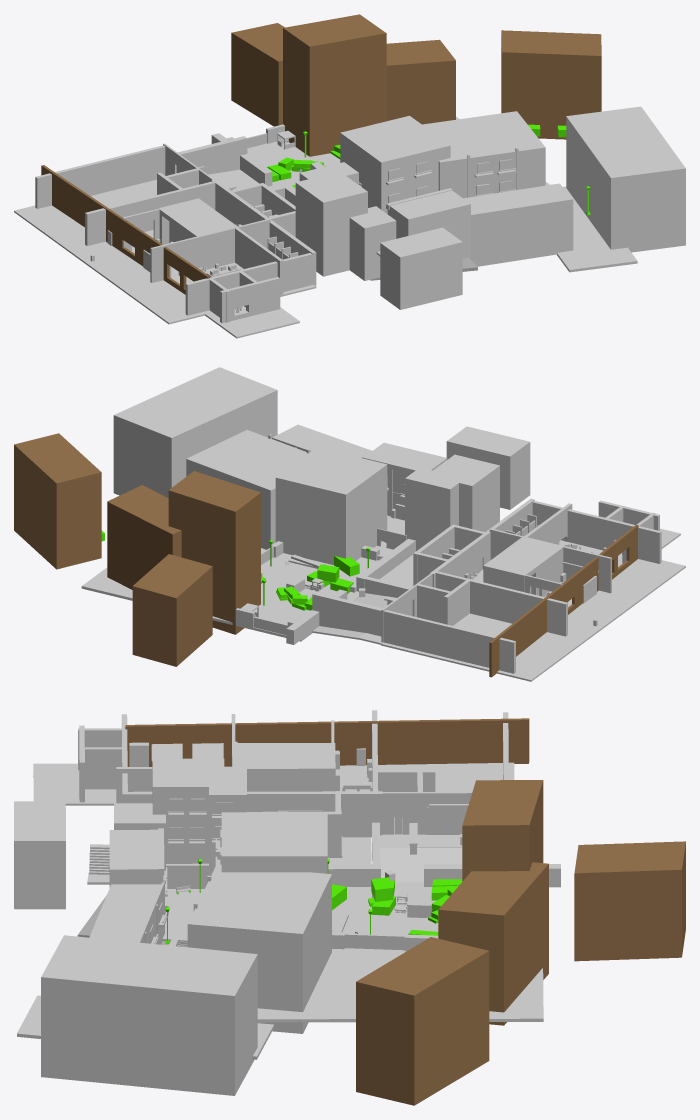
Rendered from Mapa.FBX.
3 renders of one model, top to bottom at view 1: azimuth 30°, elevation 25°; view 2: azimuth 150°, elevation 25°; view 3: azimuth 270°, elevation 25°, orthographic. The views are drawn at different scales.
Parts seen in each view (by area): view 1: PARED03, Cube__11_, Cube__55_, PARED018, Suelo26, PARED02, PARED010, PARED016, Cube__10_, PARED022, Cube__27_, Cube__92_ (+22 smaller); view 2: PARED03, PARED010, Cube__55_, Cube__11_, Cube__27_, Suelo26, Cube__10_, PARED02, Suelo27, Cube__92_, PARED016, PARED005 (+24 smaller); view 3: PARED03, Cube__55_, PARED02, Cube__27_, Cube__92_, Cube__10_, Cube__11_, PARED010, Suelo37, PARED016, Suelo31, PARED022 (+23 smaller).
Boxes of the visible parts, x1=… form: PARED03: x1=566, y1=106, x2=685, y2=252; Cube__11_: x1=283, y1=14, x2=386, y2=156; Cube__55_: x1=501, y1=30, x2=601, y2=139; PARED018: x1=463, y1=183, x2=573, y2=266; Suelo26: x1=14, y1=179, x2=316, y2=324; PARED02: x1=422, y1=111, x2=545, y2=198; PARED010: x1=340, y1=115, x2=450, y2=213; PARED016: x1=380, y1=227, x2=462, y2=309; Cube__10_: x1=386, y1=39, x2=455, y2=124; PARED022: x1=295, y1=171, x2=367, y2=276; Cube__27_: x1=231, y1=23, x2=284, y2=126; Cube__92_: x1=41, y1=165, x2=209, y2=294; PARED03: x1=113, y1=367, x2=277, y2=497; PARED010: x1=275, y1=447, x2=387, y2=565; Cube__55_: x1=14, y1=433, x2=101, y2=569; Cube__11_: x1=168, y1=471, x2=260, y2=634; Cube__27_: x1=132, y1=554, x2=212, y2=666; Suelo26: x1=381, y1=540, x2=685, y2=681; Cube__10_: x1=107, y1=485, x2=181, y2=589; PARED02: x1=186, y1=430, x2=307, y2=549; Suelo27: x1=383, y1=610, x2=515, y2=673; Cube__92_: x1=489, y1=524, x2=638, y2=677; PARED016: x1=446, y1=426, x2=530, y2=509; PARED005: x1=405, y1=467, x2=464, y2=551; PARED03: x1=41, y1=935, x2=257, y2=1095; Cube__55_: x1=356, y1=937, x2=489, y2=1105; PARED02: x1=187, y1=864, x2=331, y2=1033; Cube__27_: x1=574, y1=841, x2=685, y2=961; Cube__92_: x1=125, y1=718, x2=529, y2=766; Cube__10_: x1=438, y1=862, x2=548, y2=1025; Cube__11_: x1=462, y1=780, x2=543, y2=881; PARED010: x1=221, y1=812, x2=327, y2=873; Suelo37: x1=257, y1=949, x2=543, y2=1022; PARED016: x1=14, y1=801, x2=65, y2=909; Suelo31: x1=234, y1=743, x2=335, y2=791; PARED022: x1=152, y1=758, x2=224, y2=863.
Size of the model in its own units: 141 by 31.9 by 115.
